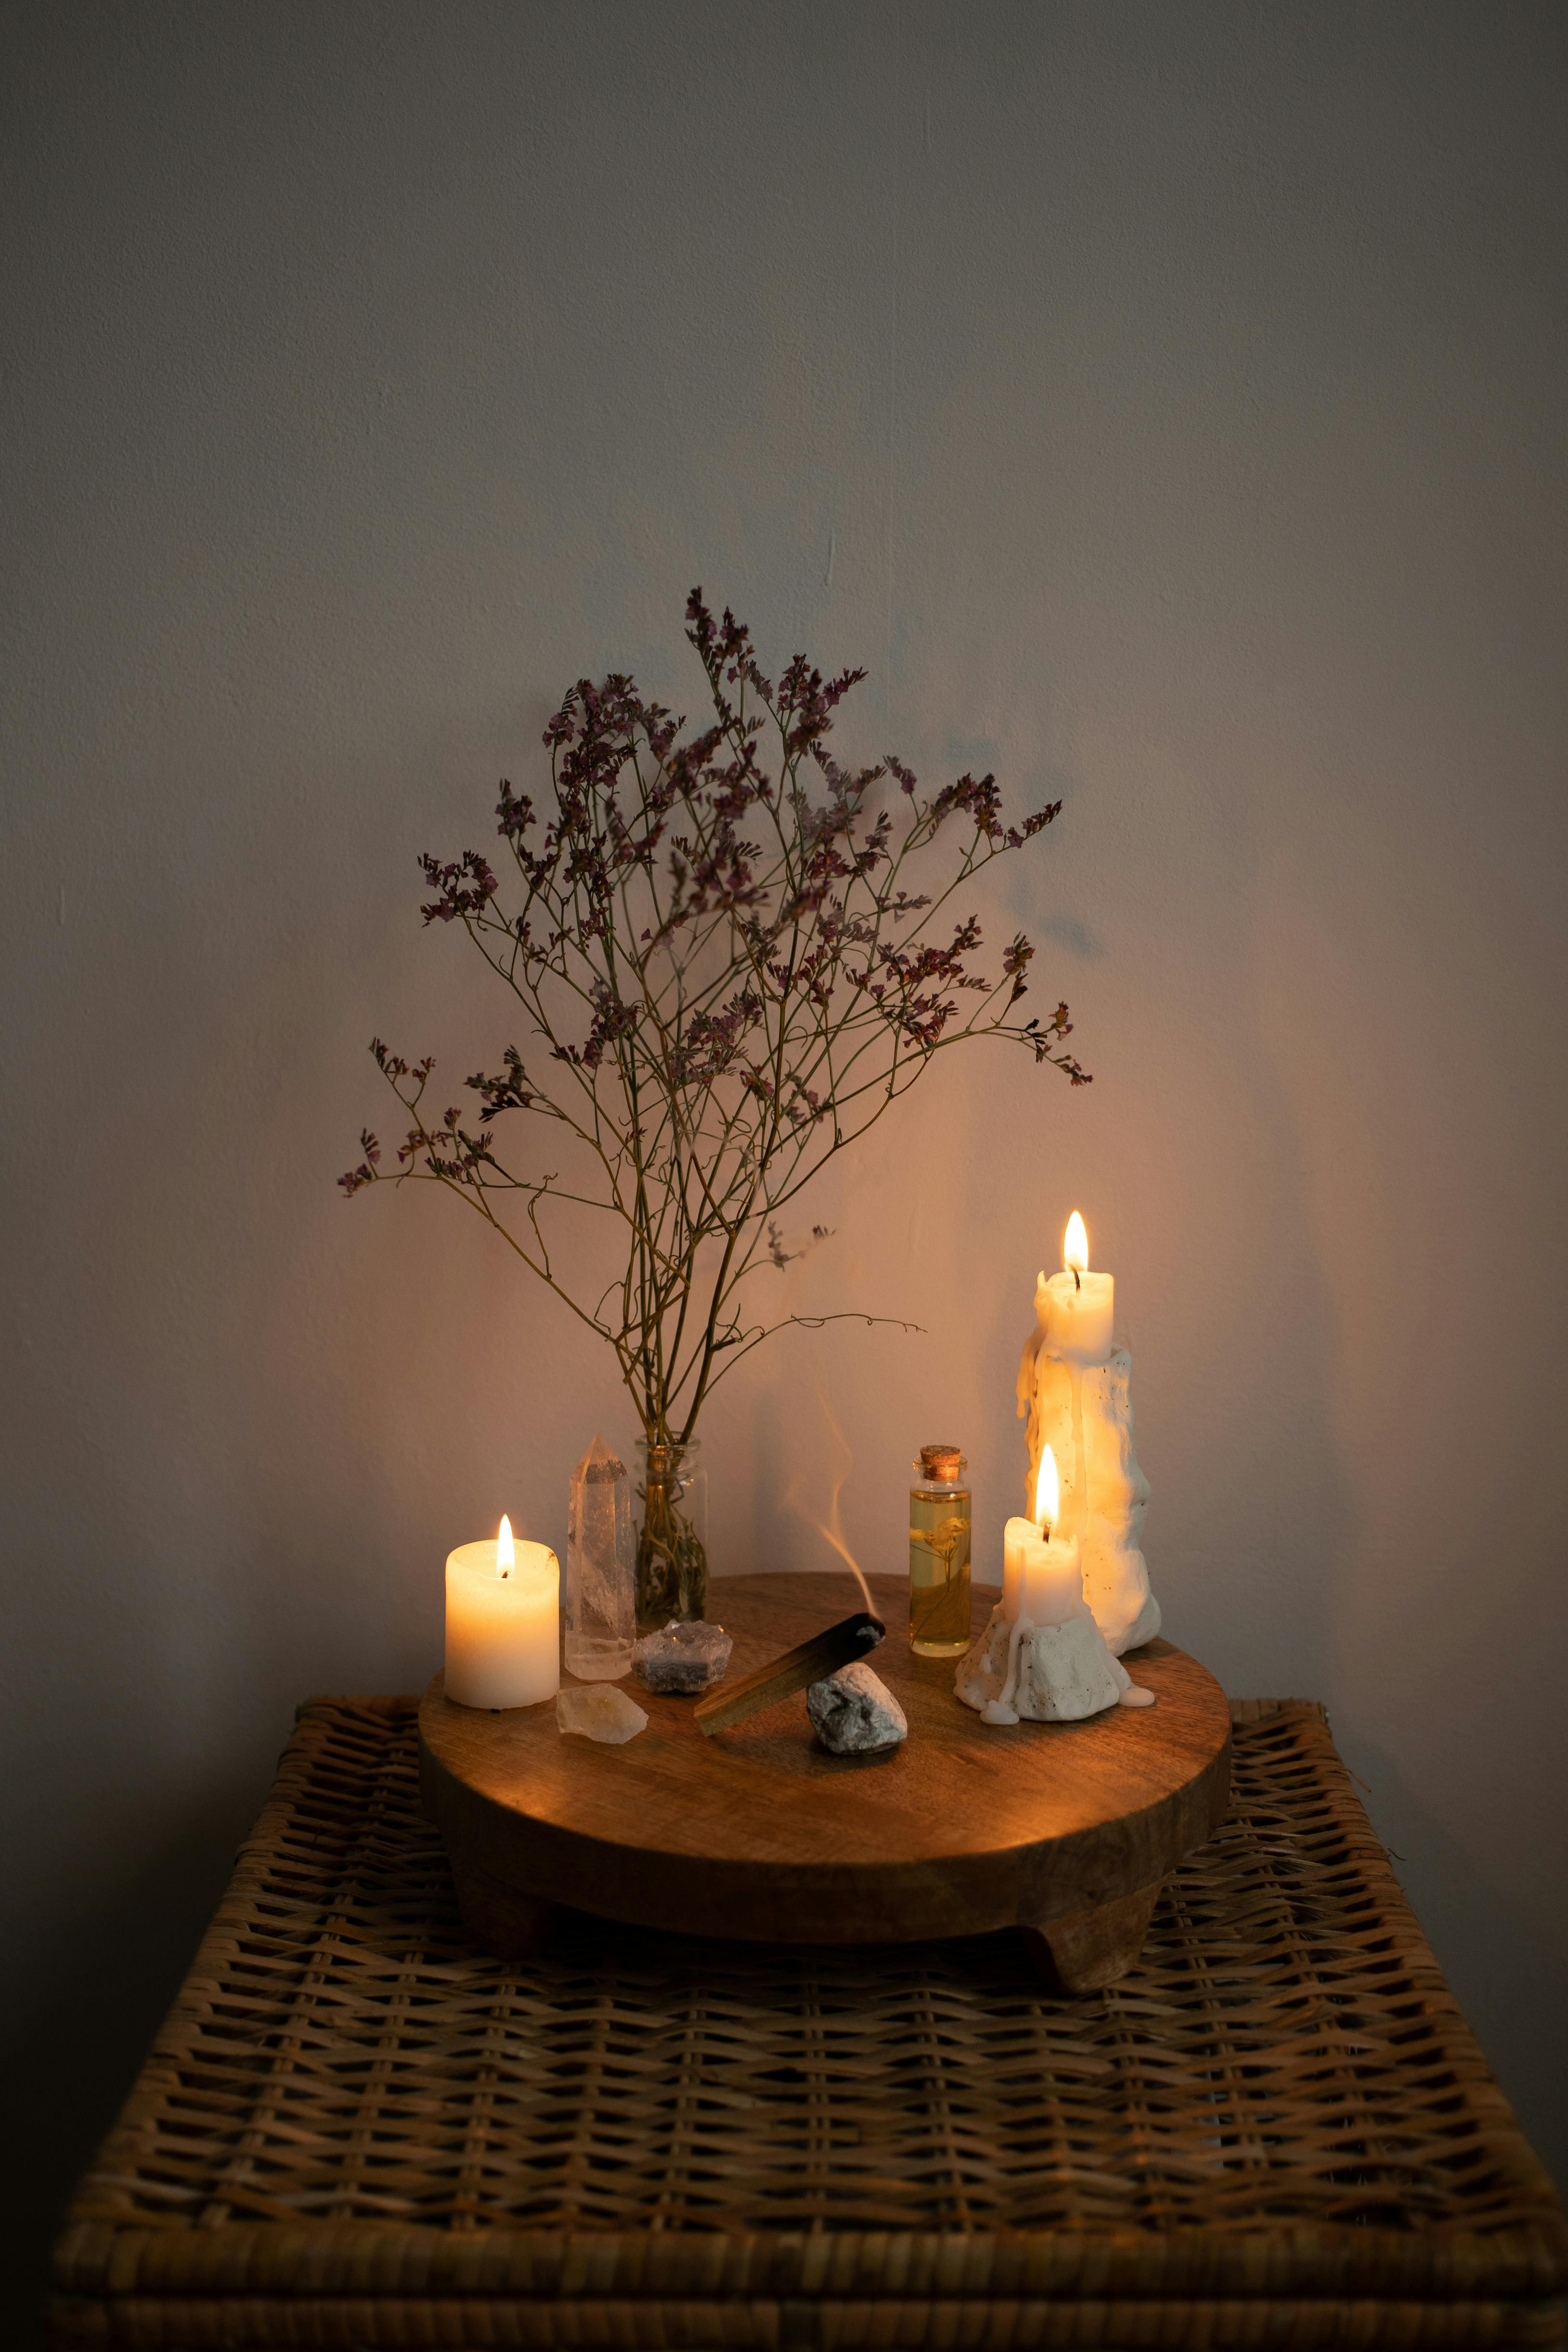Fire: (1017, 1440, 1083, 1547), (1046, 1195, 1102, 1288), (483, 1493, 525, 1570)
